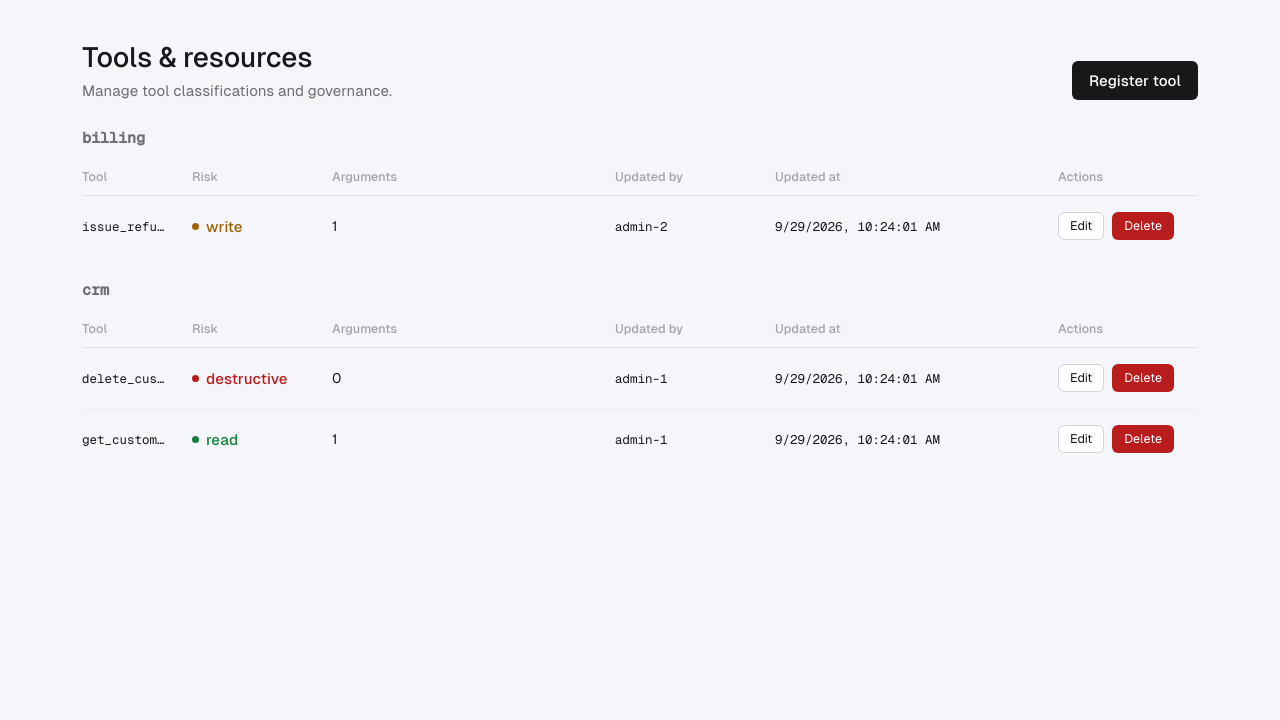
ToolsPage › enforces typing the tool name before delete
The image size is (1280, 720).
expect the text "get_customer" is shown: met, box [82,408,192,469]
Click the button with aria-label "Delete get_customer" at (1143, 439), box [1112,425,1174,453]
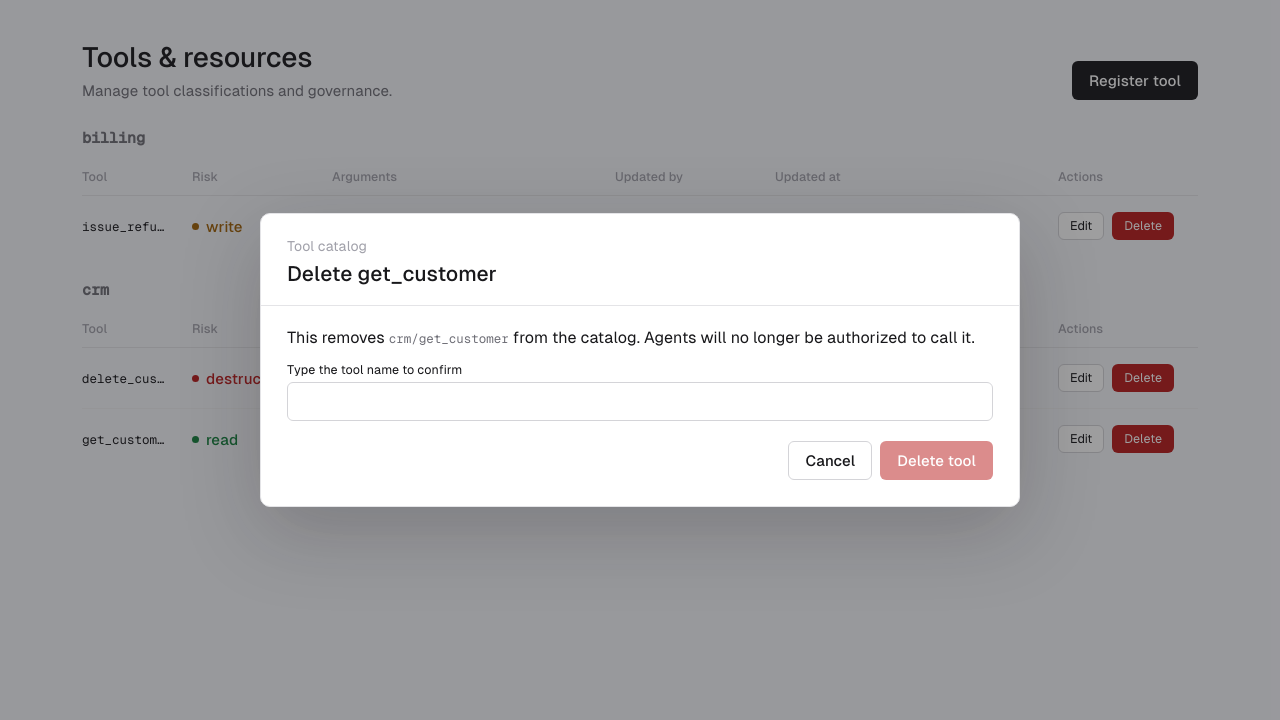
expect the button "Delete tool" is disabled: met, box [880,441,993,480]
Type "get_custome" into the field labelled "Type the tool name to confirm" at (640, 402), box [287,382,993,421]
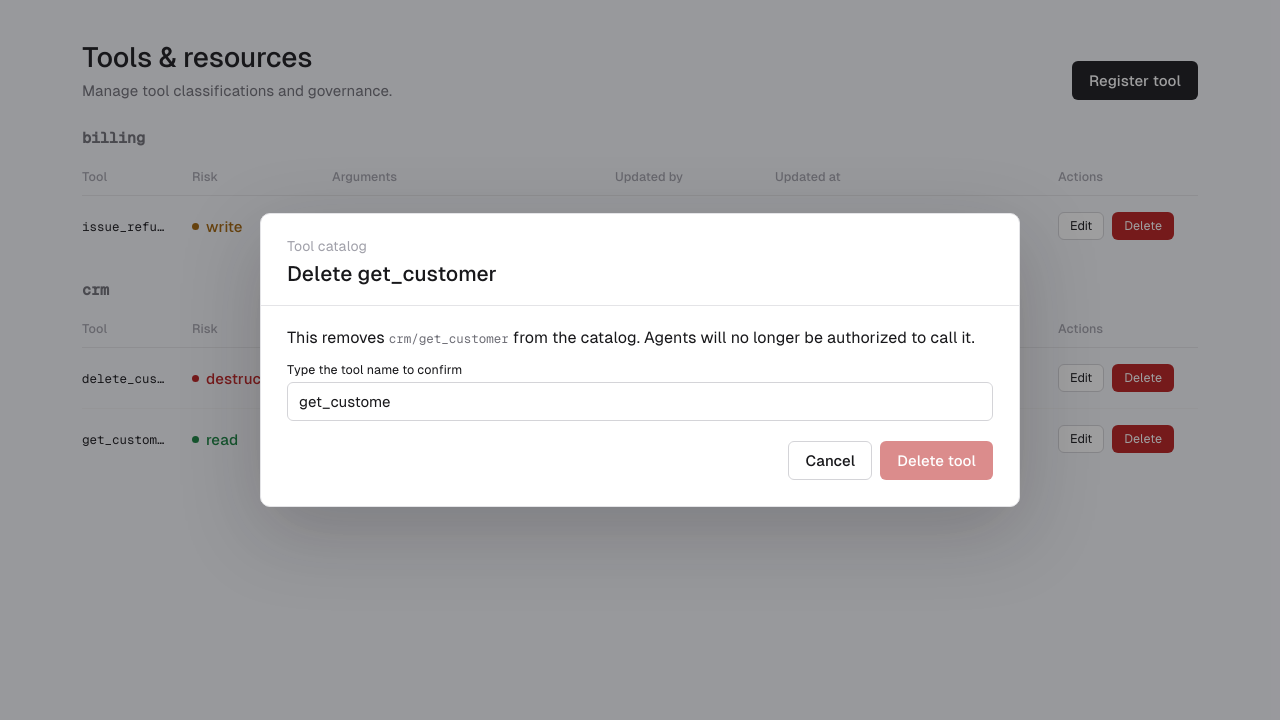
expect the button "Delete tool" is disabled: met, box [880,441,993,480]
Replace the text in the field labelled "Type the tool name to confirm" with "get_customer" at (640, 402), box [287,382,993,421]
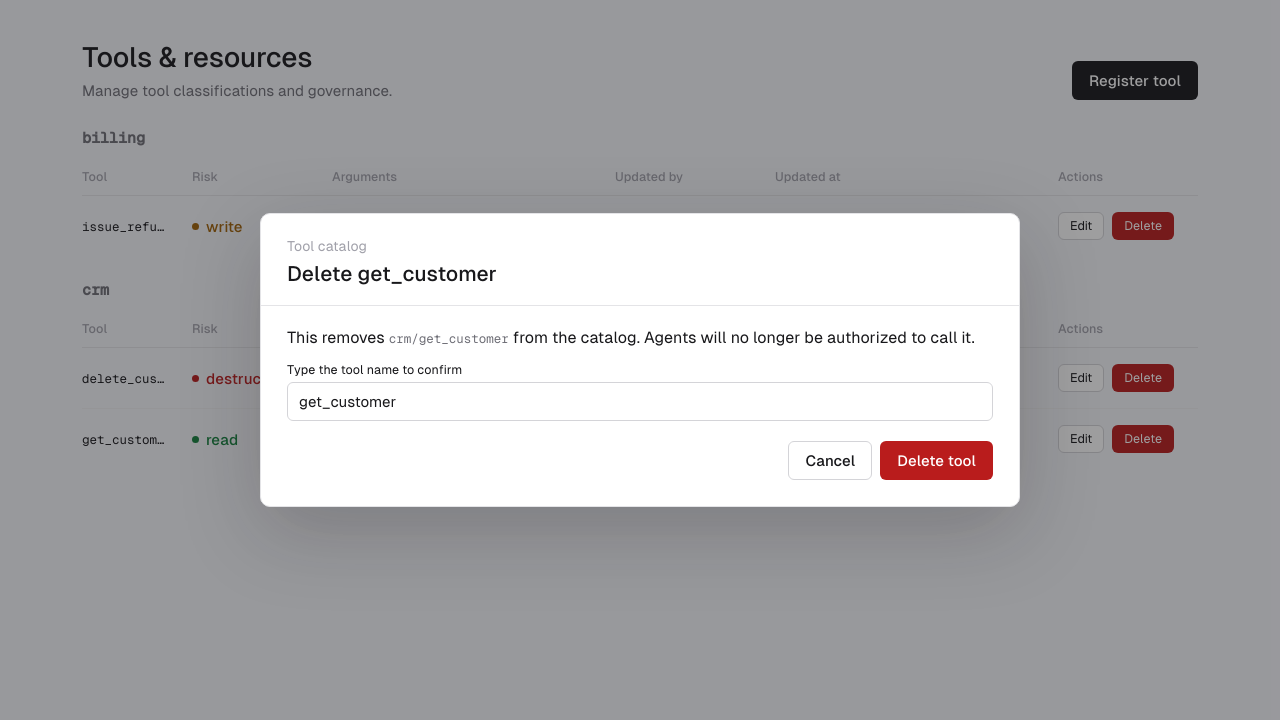
expect the button "Delete tool" is enabled: met
Click the button "Delete tool" at (937, 460), box [880,441,993,480]
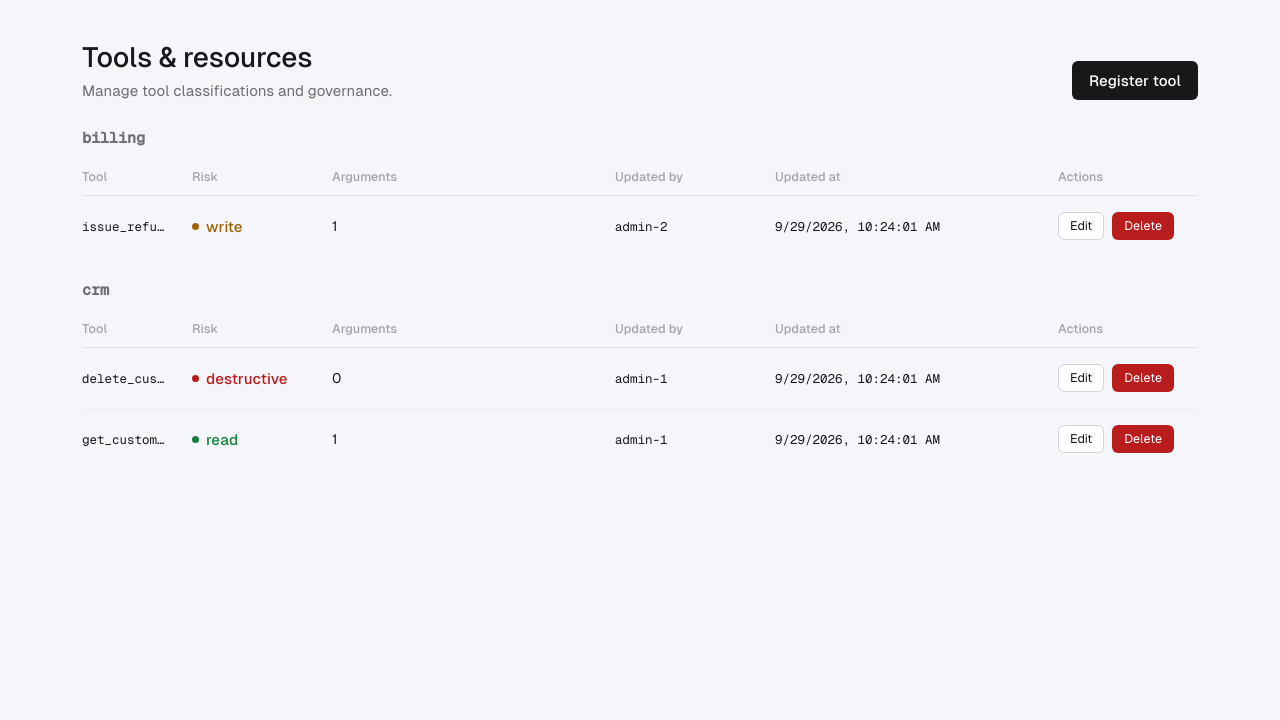
expect the dialog is gone: met
